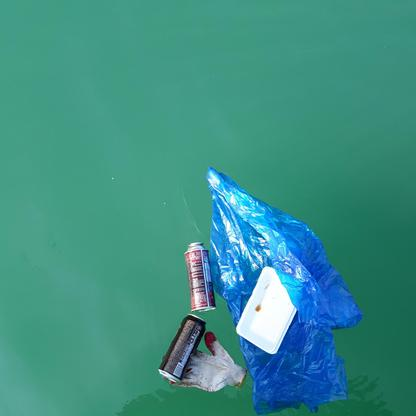can: (161, 312, 201, 384), (183, 240, 219, 315)
foam: (237, 264, 297, 357)
plastic bag: (206, 167, 360, 416)
